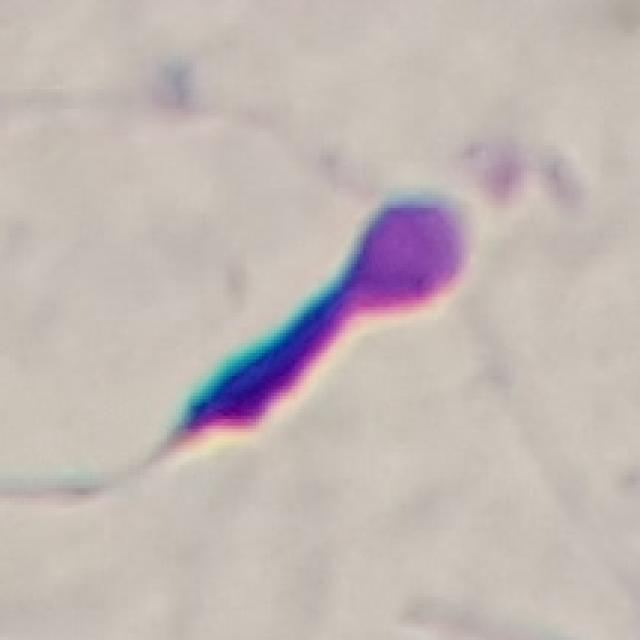abnormal sperm: (0, 156, 506, 507)
